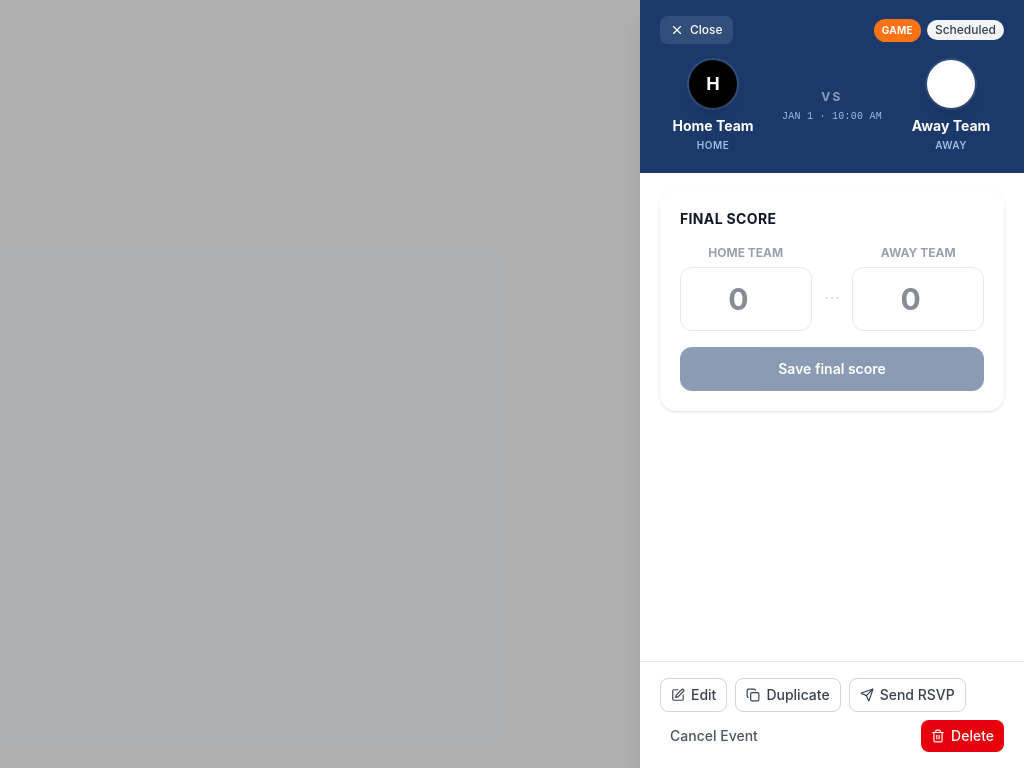
Test: EventDetailPanel — recordResult error states › shows error banner when recordResult rejects with a Firestore error
Type "3" into the 1st number field with placeholder "0". click: (746, 299)
box: [680,267,812,331]
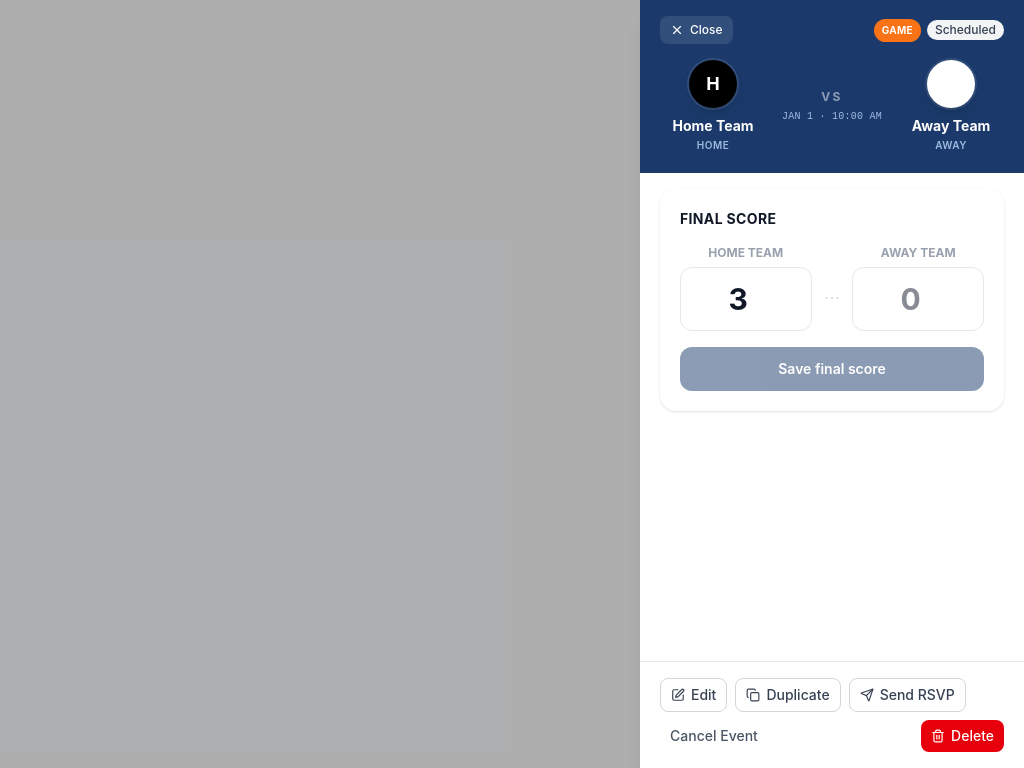
Type "1" into the number field with placeholder "0". click: (918, 299)
box: [852,267,984,331]
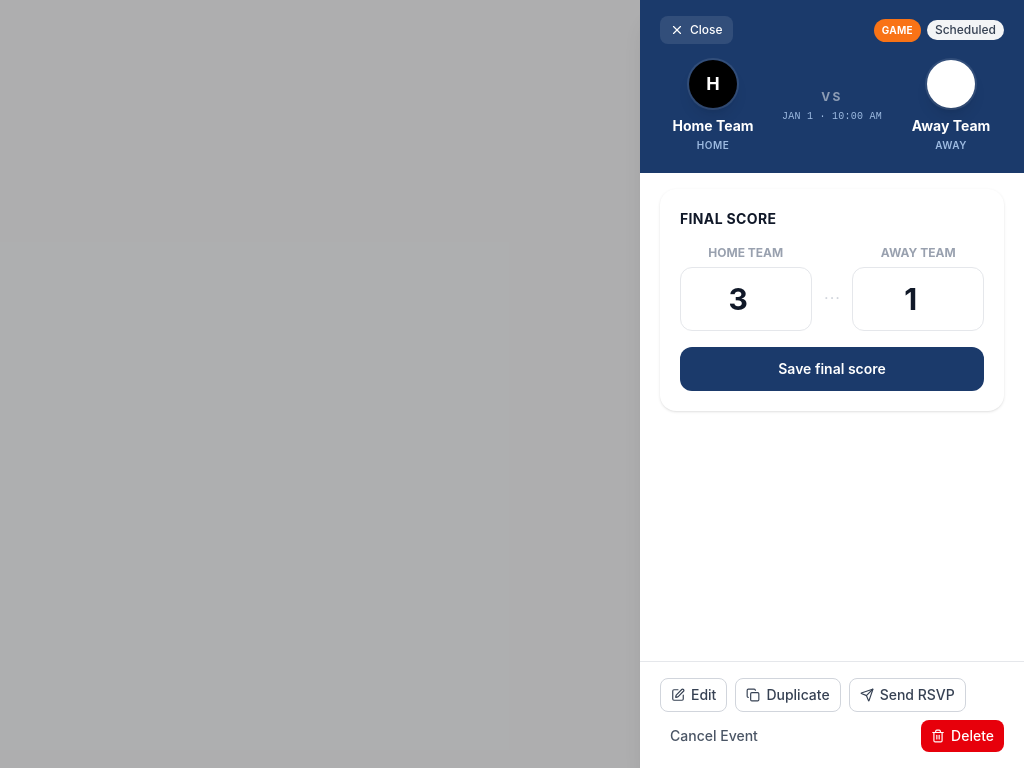
Click the button "Save final score". click: (832, 369)
box: [680,347,984,391]
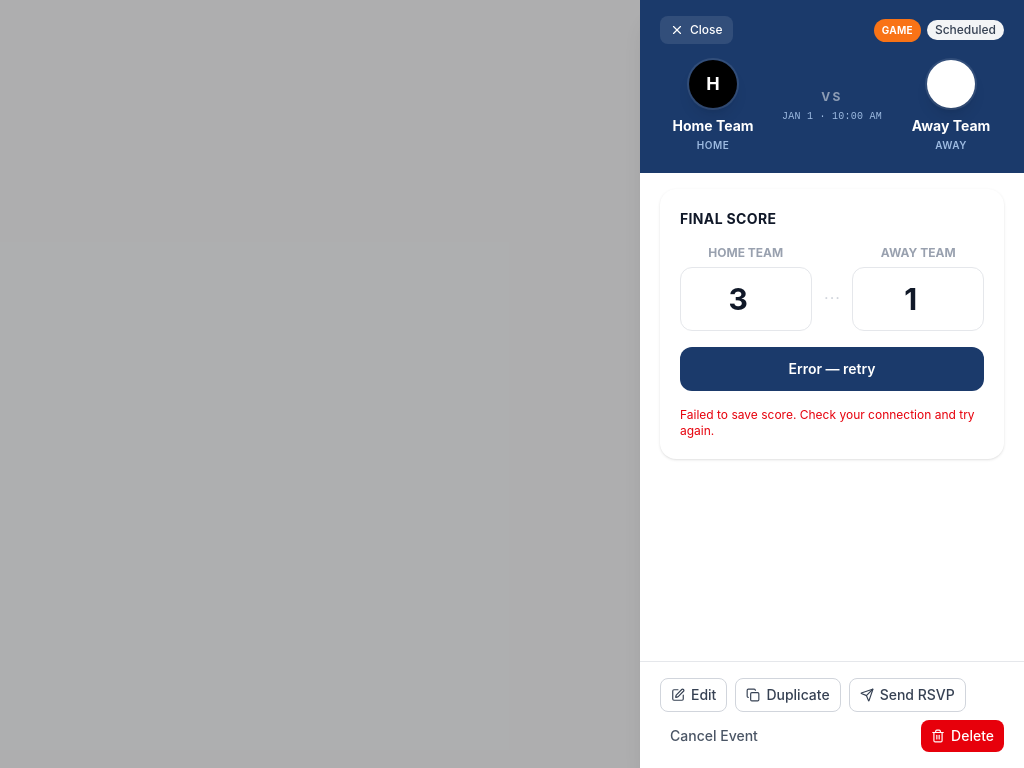
Check: the text "Failed to save score. Check your connection and try again." is shown, box [680,407,984,439]
